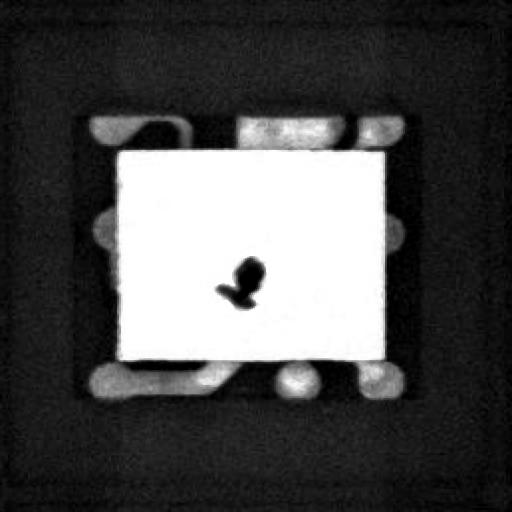DIE_INK: (203, 266, 252, 323)
